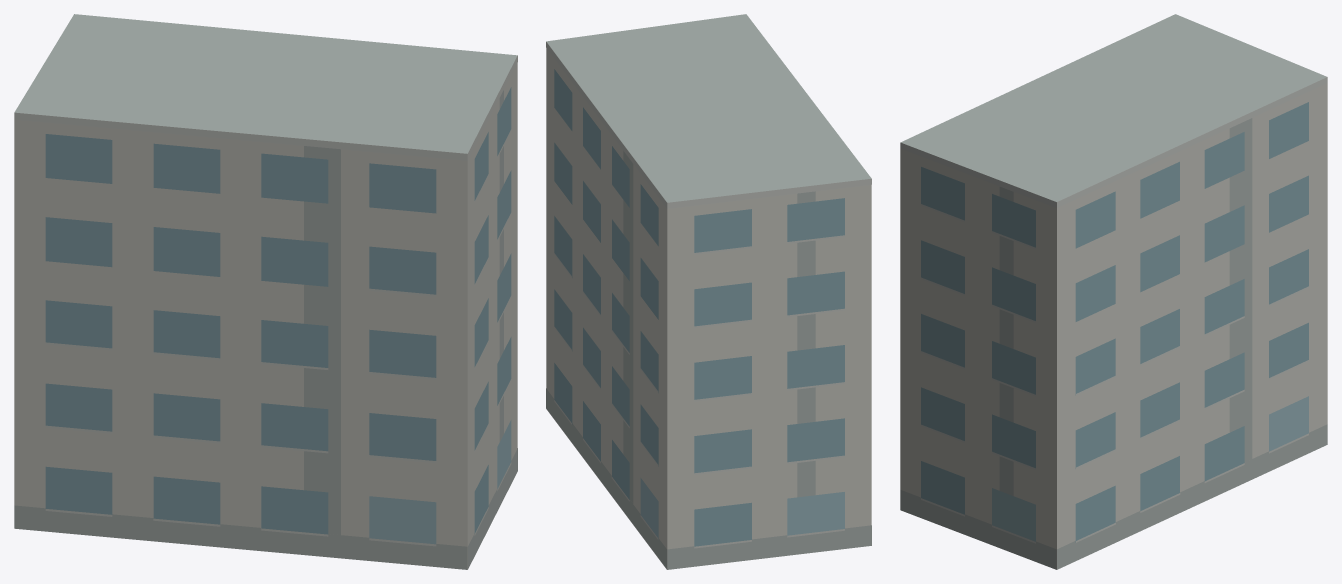
File: survey-upis-33043497.glb
3 renders of one model, left to right at view 1: azimuth 30°, elevation 25°; view 2: azimuth 150°, elevation 25°; view 3: azimuth 270°, elevation 25°, orthographic. The views are drawn at different scales.
Visible parts, largest first — view 1: survey-upis-33043497.tmp; view 2: survey-upis-33043497.tmp; view 3: survey-upis-33043497.tmp.
Part boxes in pixels (x1,y1,x2,y2): survey-upis-33043497.tmp: [14, 14, 517, 569]; survey-upis-33043497.tmp: [546, 14, 871, 569]; survey-upis-33043497.tmp: [900, 14, 1327, 569].
Bounding box in the file's own units: 16.03 × 14.6 × 15.38.
